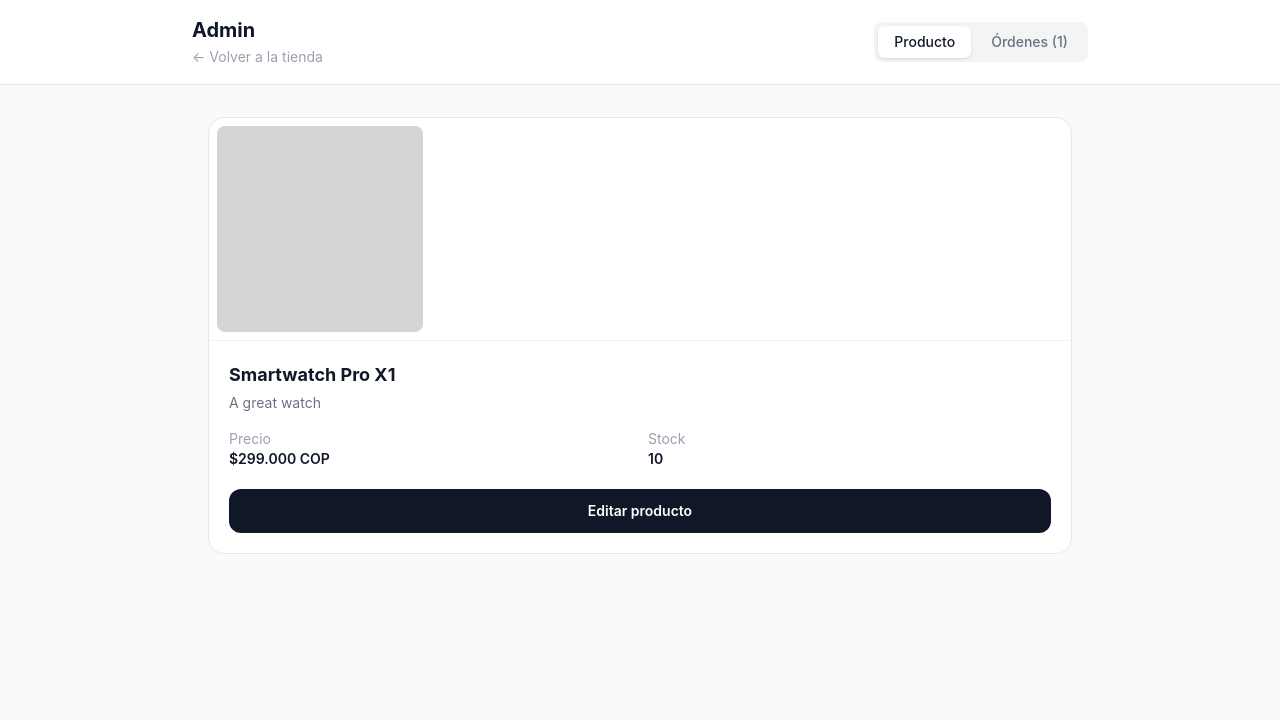
Test: AdminPage › switches to ordenes tab and shows transactions
The image size is (1280, 720).
What coordinates should you click on to do the following:
click the button "Órdenes (1)"
I would click on:
 (1030, 42)
Its box is [975,26,1084,58].
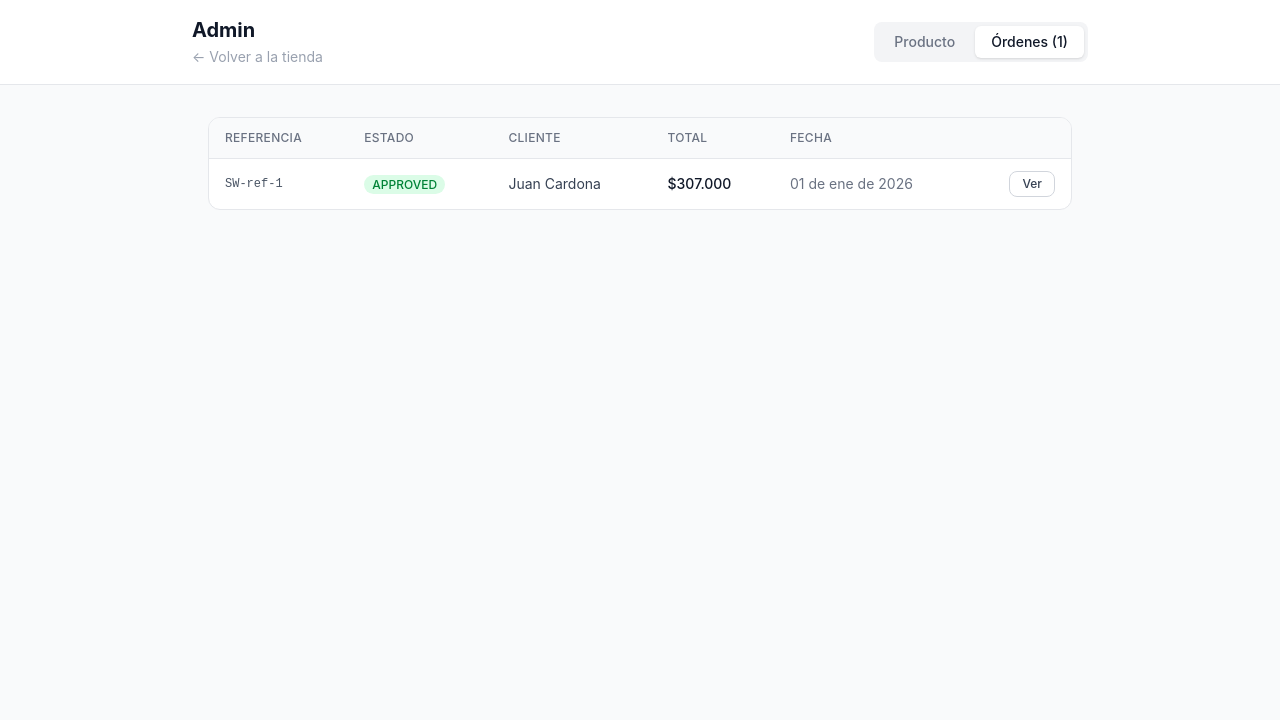
Expected: the text "SW-ref-1" is shown, [209,158,348,209]
